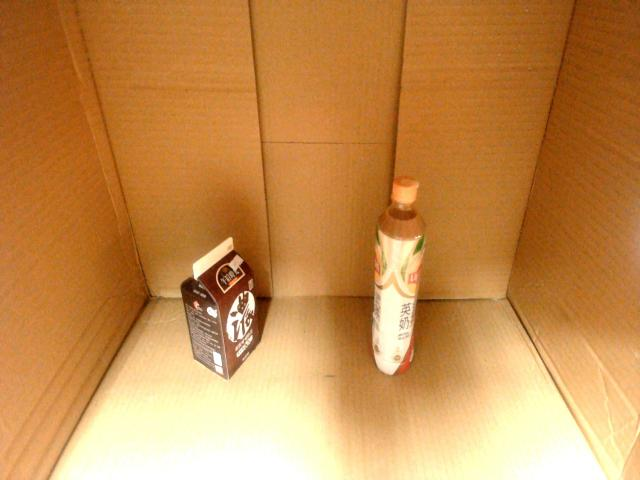bottle: (370, 175, 428, 377)
